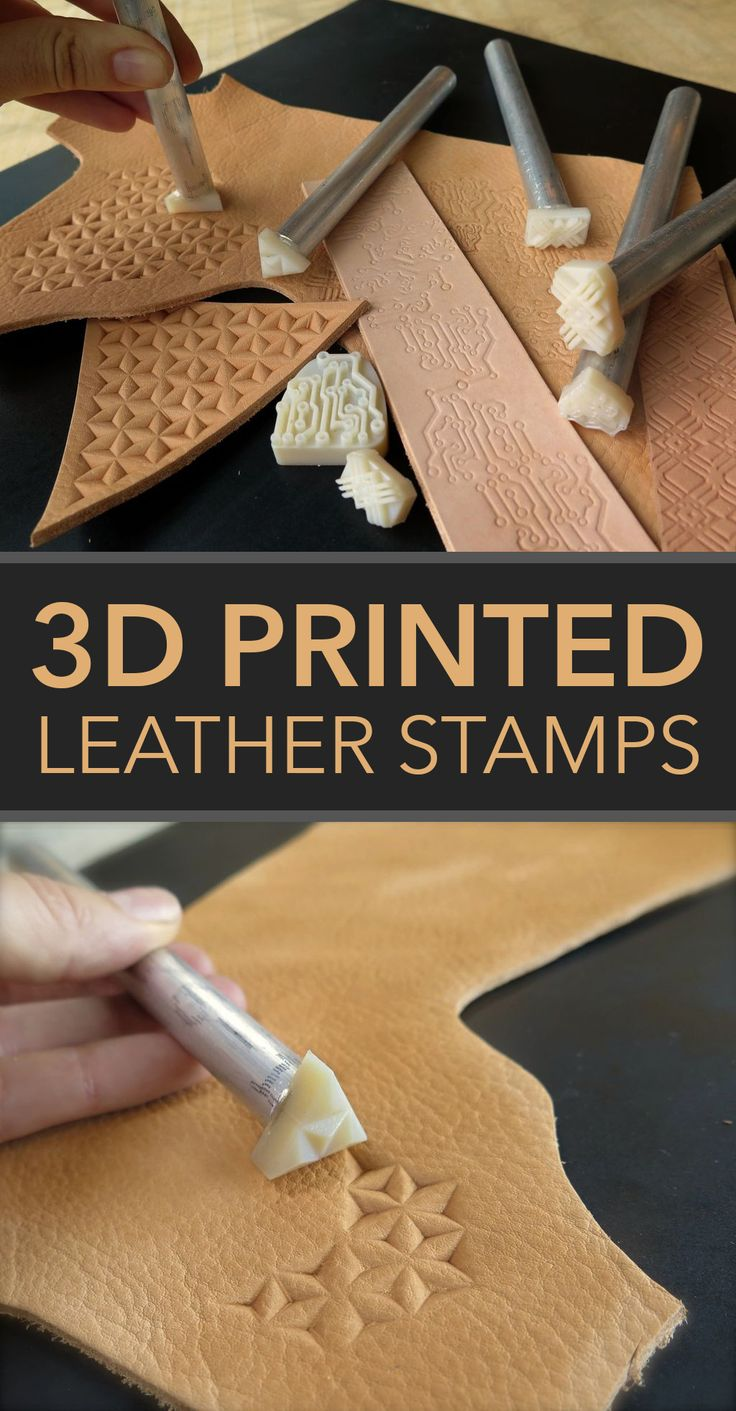cuero: (1, 74, 736, 1408)
